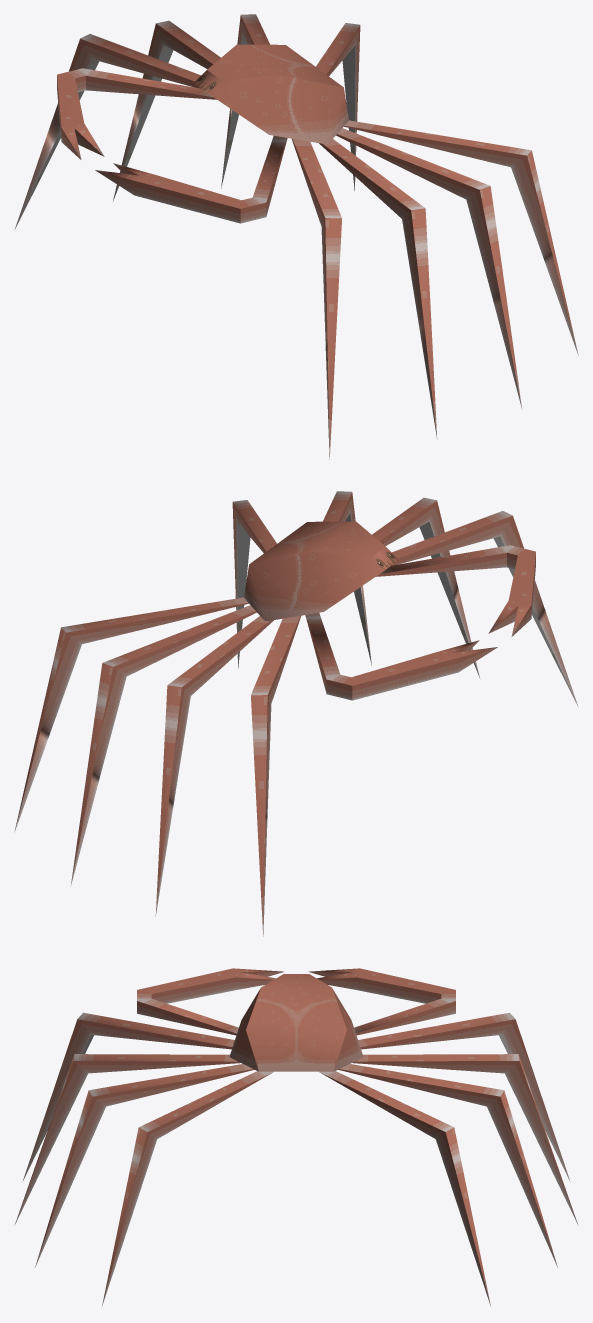
The model's file is 01e4_Spider_Crab.glb.
3 renders of one model, top to bottom at view 1: azimuth 30°, elevation 25°; view 2: azimuth 150°, elevation 25°; view 3: azimuth 270°, elevation 25°, orthographic. The views are drawn at different scales.
Visible parts, largest first — view 1: part_0; view 2: part_0; view 3: part_0.
Boxes of the visible parts, x1,y1,x2,y2 form: part_0: (14,14,578,459); part_0: (14,491,578,936); part_0: (14,968,578,1306).
Size of the model in its own units: 0.4345 by 0.2942 by 0.6453.
1 material, 1 textured.
